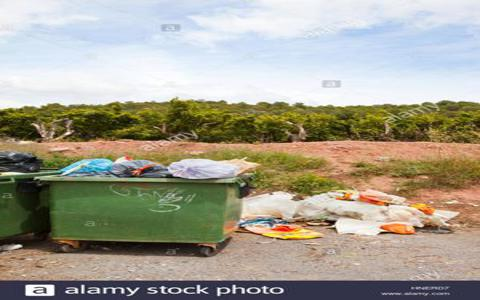overflowing garbage: (42, 148, 295, 269)
